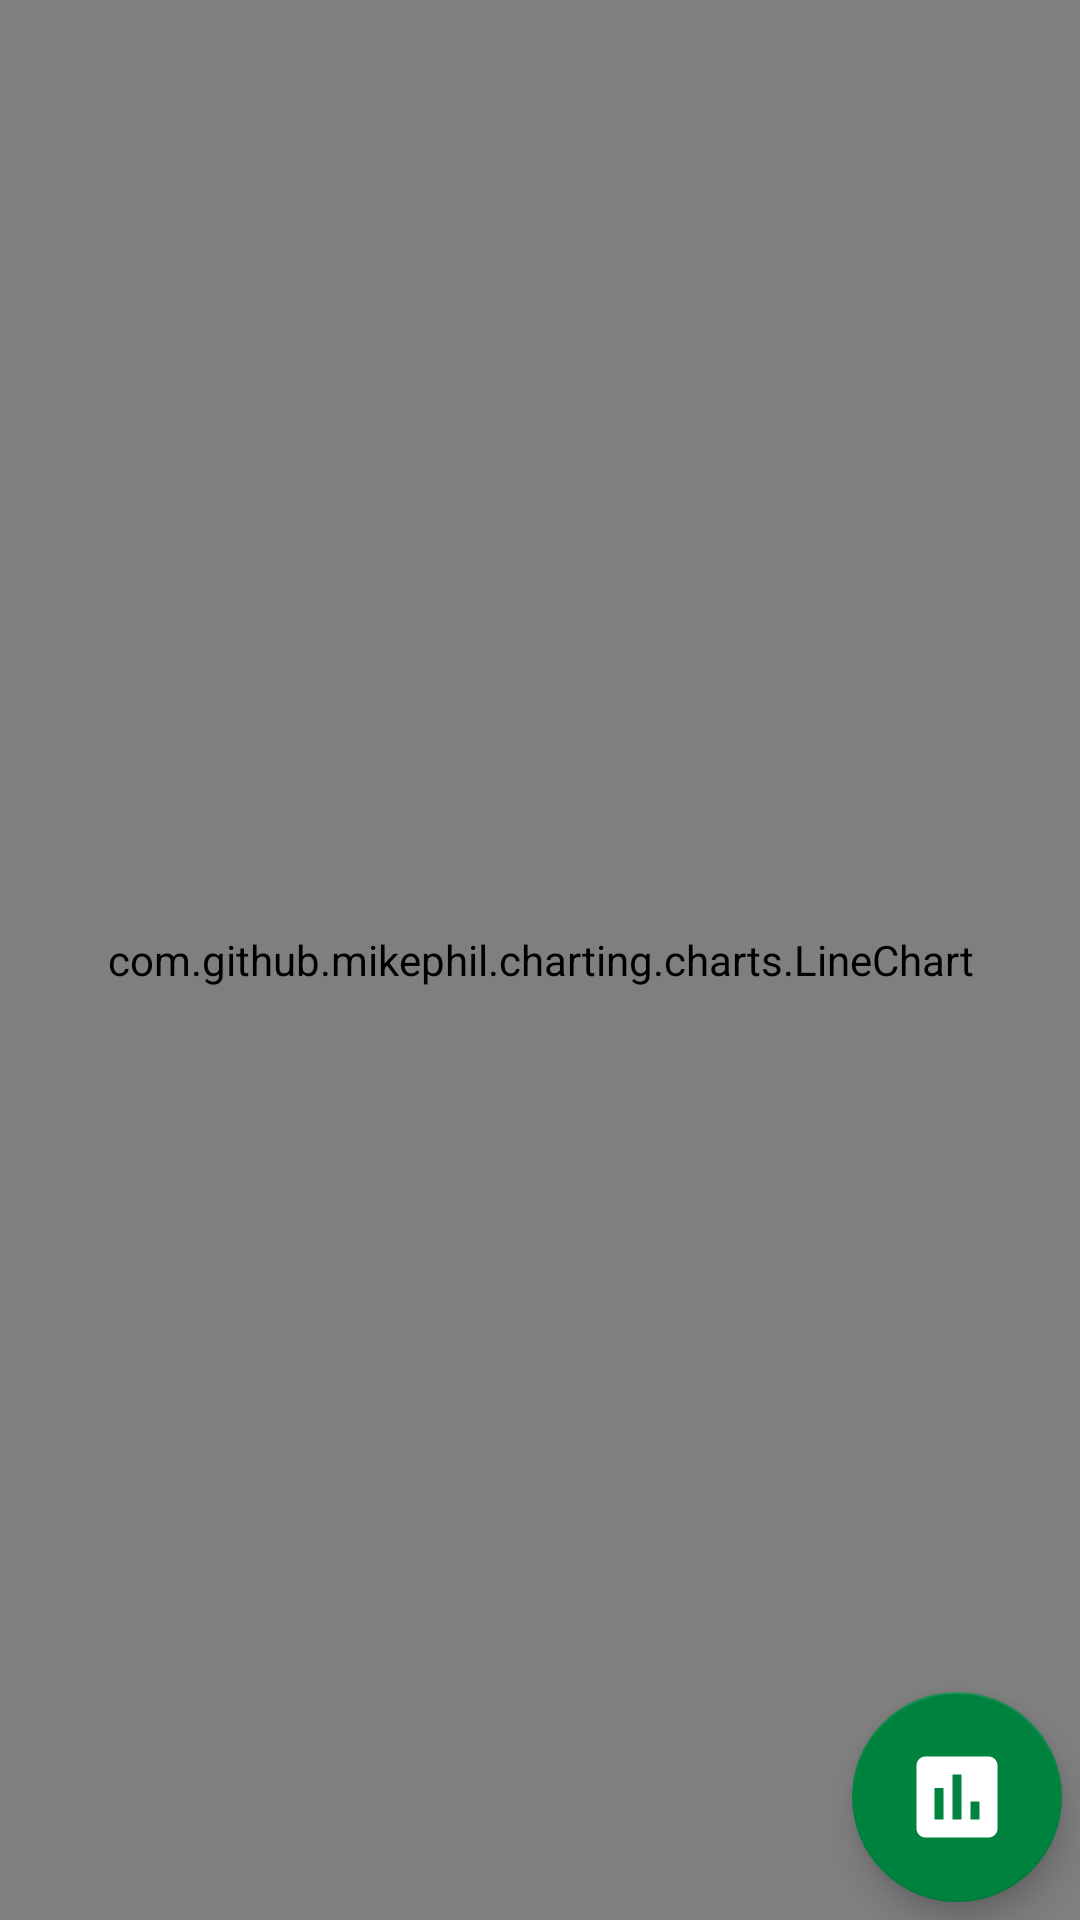

Icons on this 1080px×1920px Android screen, each with the point to tap as (x=x, y=y):
insert chart: (x=957, y=1797)
